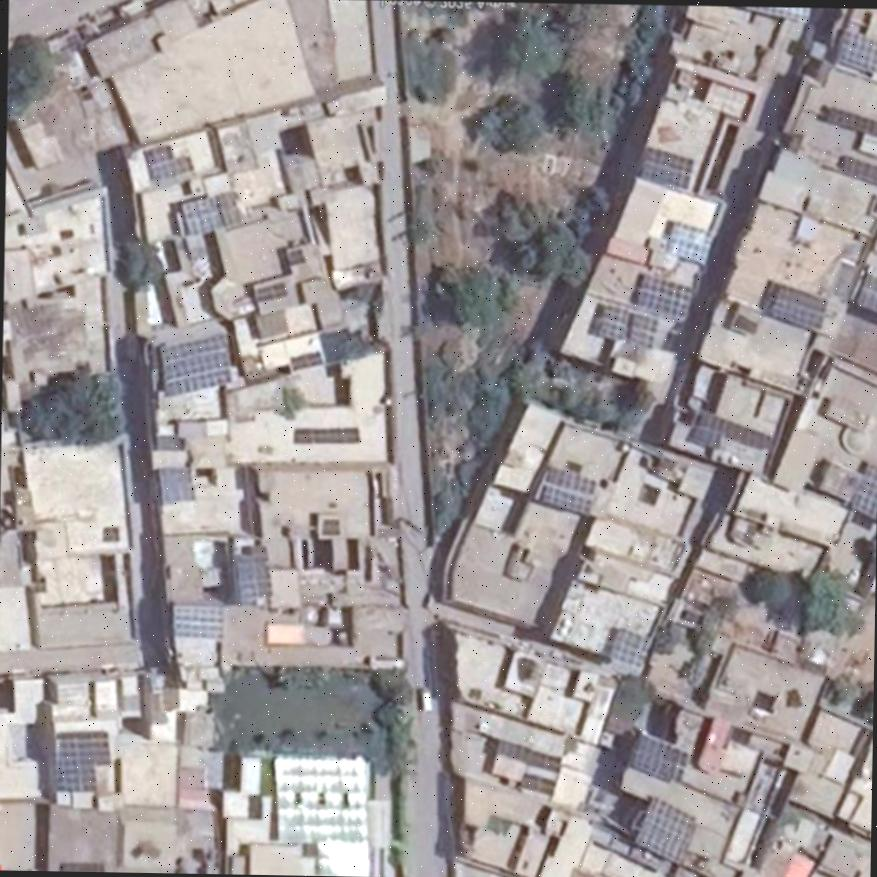Solarpanel: (274, 757, 368, 842), (162, 334, 231, 395), (635, 798, 693, 859), (627, 732, 686, 783), (50, 739, 109, 788), (541, 467, 595, 514), (769, 284, 825, 328), (600, 306, 657, 348), (635, 277, 691, 319), (637, 147, 690, 185), (171, 605, 221, 640), (837, 28, 877, 70), (849, 460, 875, 521), (180, 195, 220, 233), (824, 107, 877, 135), (608, 629, 645, 664), (737, 6, 809, 23), (837, 153, 877, 183), (293, 429, 358, 444), (251, 283, 287, 303), (527, 751, 562, 771), (521, 774, 551, 794), (288, 352, 320, 369)
